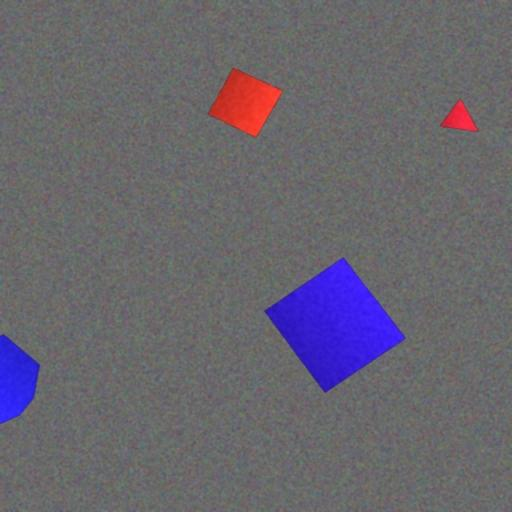BLUE_SQUARE: (264, 256, 407, 394)
RED_SQUARE: (207, 68, 283, 138)
